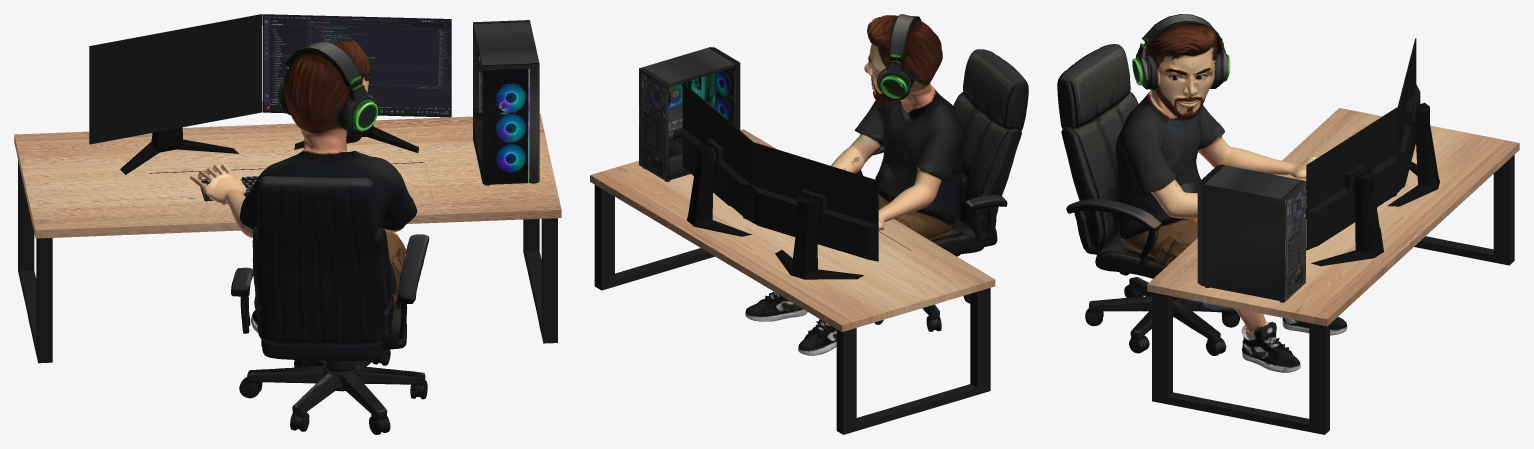
File: boneco_compressed.glb
3 views of the same model, side by side, from view 1: azimuth 30°, elevation 25°; view 2: azimuth 150°, elevation 25°; view 3: azimuth 270°, elevation 25° (orthographic). The views are drawn at different scales.
Parts seen in each view (by area): view 1: tripo_node_19e0cd68-6437-4e32-988f-6f51273aed8a.001, Plane, Cylinder.001, Cylinder, Plane.002, Plane.001, Cube.002, Cube.001; view 2: tripo_node_19e0cd68-6437-4e32-988f-6f51273aed8a.001, Plane, Cylinder.001, Plane.001, Plane.002, Cylinder, Cube.002, Cube.001; view 3: tripo_node_19e0cd68-6437-4e32-988f-6f51273aed8a.001, Plane, Plane.002, Plane.001, Cylinder, Cube.001, Cylinder.001, Cube.002.
Part boxes in pixels (bbox=[...]): tripo_node_19e0cd68-6437-4e32-988f-6f51273aed8a.001: bbox=[190, 39, 429, 434]; Plane: bbox=[14, 114, 561, 238]; Cylinder.001: bbox=[89, 14, 262, 144]; Cylinder: bbox=[263, 14, 451, 117]; Plane.002: bbox=[473, 20, 539, 185]; Plane.001: bbox=[18, 160, 557, 363]; Cube.002: bbox=[120, 127, 238, 174]; Cube.001: bbox=[294, 125, 418, 152]; tripo_node_19e0cd68-6437-4e32-988f-6f51273aed8a.001: bbox=[745, 14, 1028, 355]; Plane: bbox=[590, 129, 995, 331]; Cylinder.001: bbox=[752, 142, 878, 261]; Plane.001: bbox=[594, 185, 990, 434]; Plane.002: bbox=[639, 47, 740, 181]; Cylinder: bbox=[682, 83, 752, 221]; Cube.002: bbox=[775, 196, 864, 279]; Cube.001: bbox=[687, 143, 751, 236]; tripo_node_19e0cd68-6437-4e32-988f-6f51273aed8a.001: bbox=[1057, 14, 1347, 372]; Plane: bbox=[1147, 108, 1519, 326]; Plane.002: bbox=[1197, 164, 1305, 302]; Plane.001: bbox=[1152, 155, 1514, 434]; Cylinder: bbox=[1306, 107, 1397, 250]; Cube.001: bbox=[1311, 170, 1383, 266]; Cylinder.001: bbox=[1397, 38, 1420, 192]; Cube.002: bbox=[1387, 102, 1439, 206].
Bounding box in the file's own units: 1.13 × 0.7585 × 1.04.
Materials: 13 (9 with a texture image).
